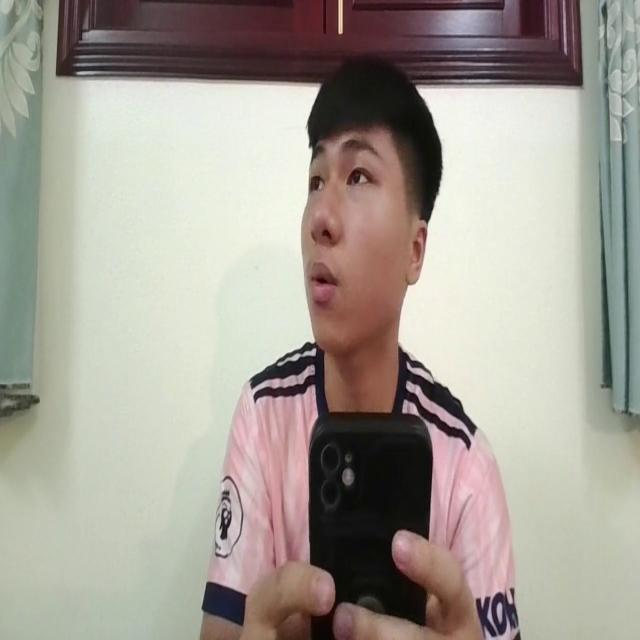phone: (308, 404, 434, 626)
student: (203, 44, 523, 640)
